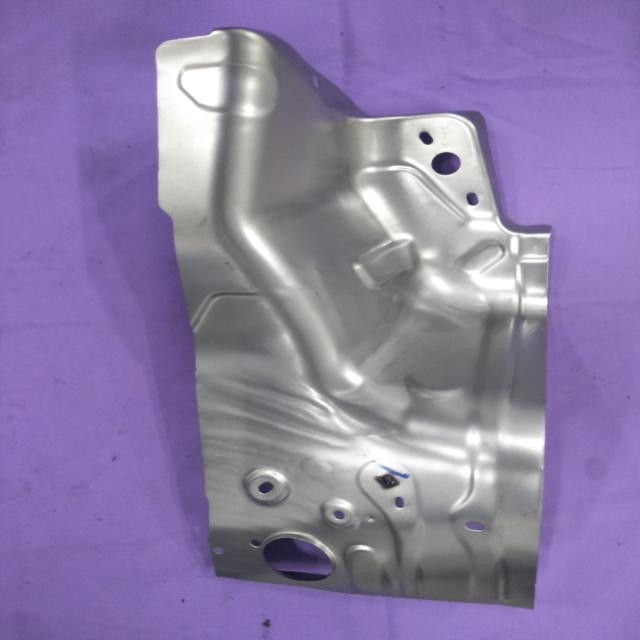Healthy: (153, 26, 553, 610)
